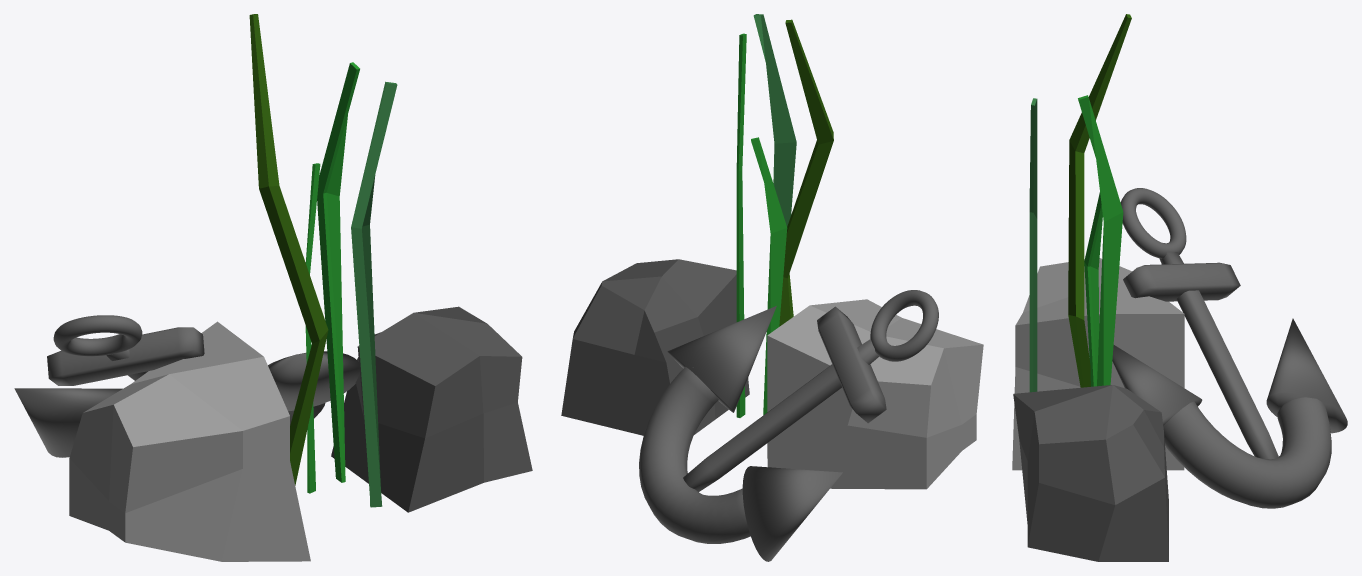
File: anchor.gltf
3 renders of one model, left to right at view 1: azimuth 30°, elevation 25°; view 2: azimuth 150°, elevation 25°; view 3: azimuth 270°, elevation 25°, orthographic. The views are drawn at different scales.
Visible parts, largest first — view 1: Torus; view 2: Torus; view 3: Torus.
Part boxes in pixels (box(x1,y1,x2,y2)): Torus: box(14, 14, 532, 561); Torus: box(561, 14, 983, 561); Torus: box(1012, 14, 1347, 561).
Bounding box in the file's own units: 0.6871 × 0.7895 × 0.5096.
